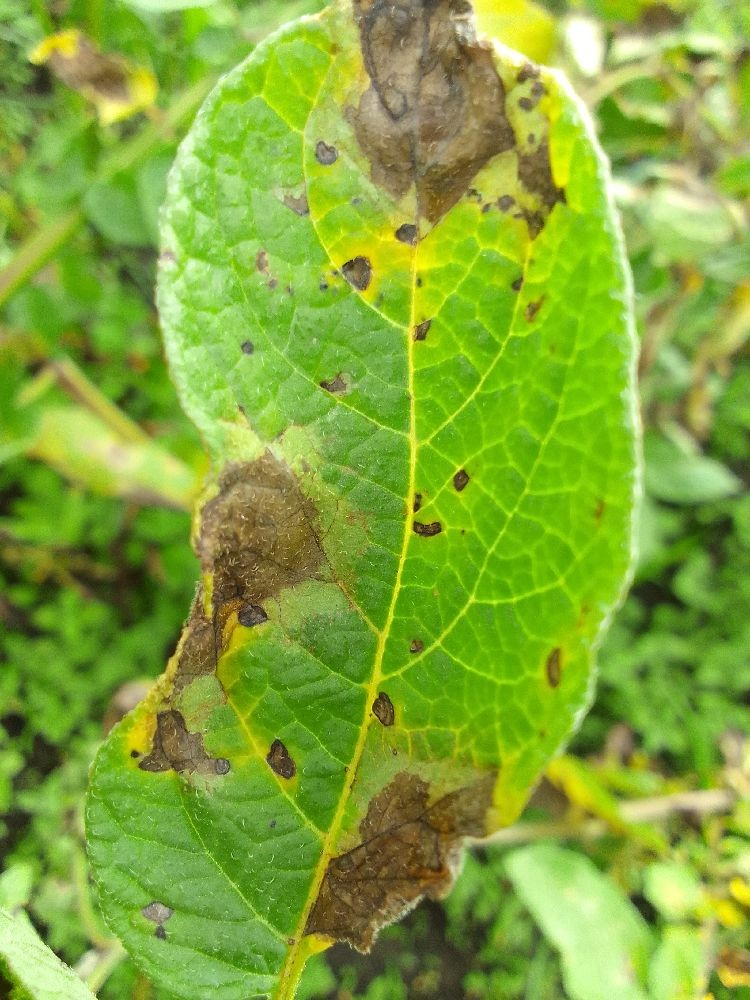late_blight: (60, 414, 363, 814), (300, 0, 581, 265), (274, 735, 526, 1000), (0, 21, 147, 120)
